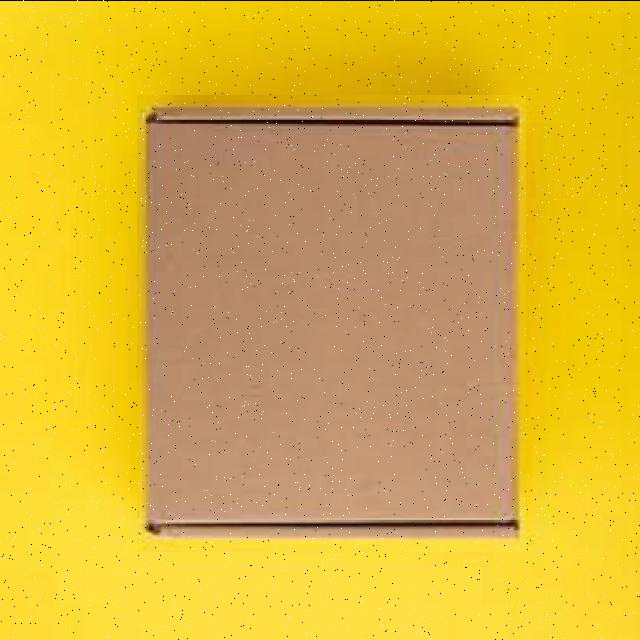normal: (137, 94, 526, 551)
